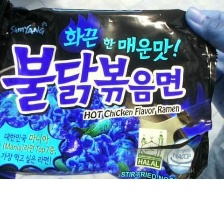snack: (0, 0, 224, 178)
